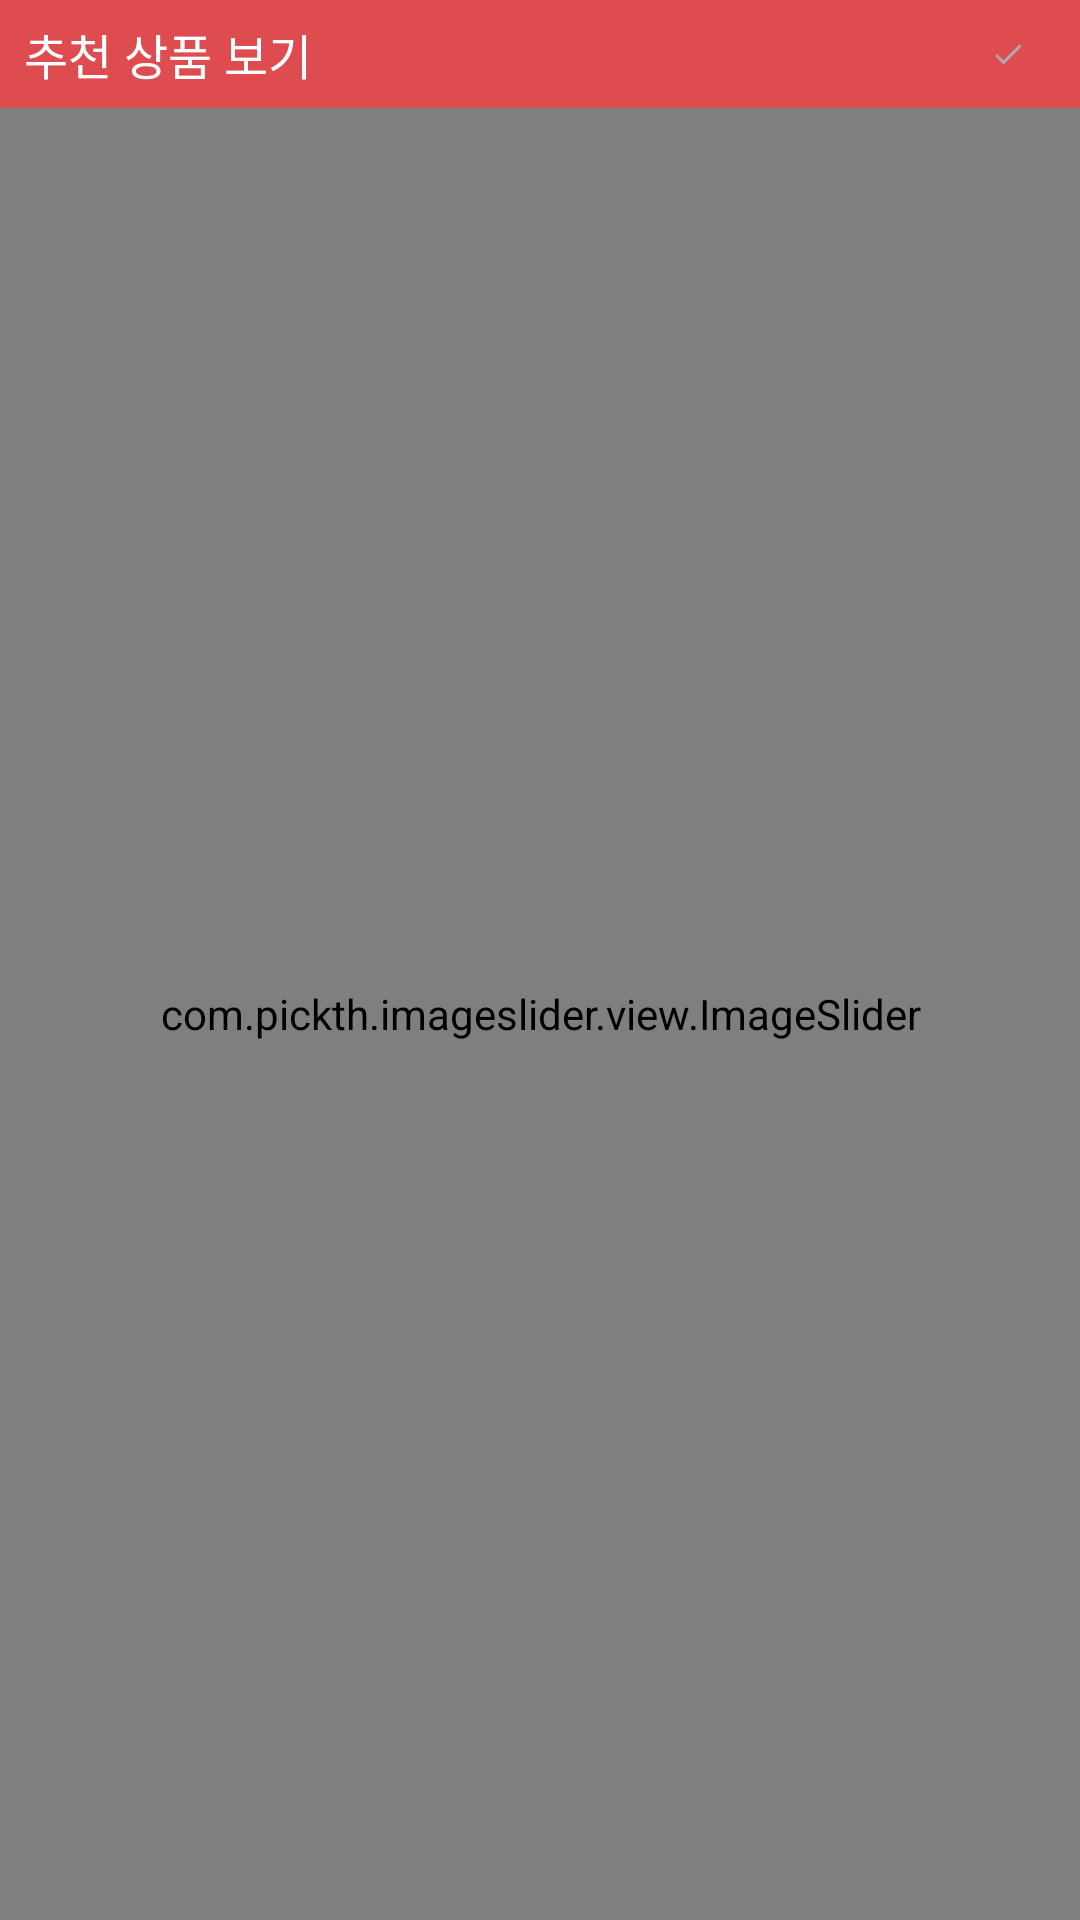

Screen size 1080×1920. Icon name, then its center in pixels as [x,y]:
check: [1008,54]
